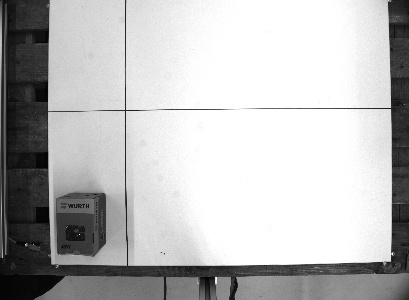b4: (52, 190, 108, 257)
